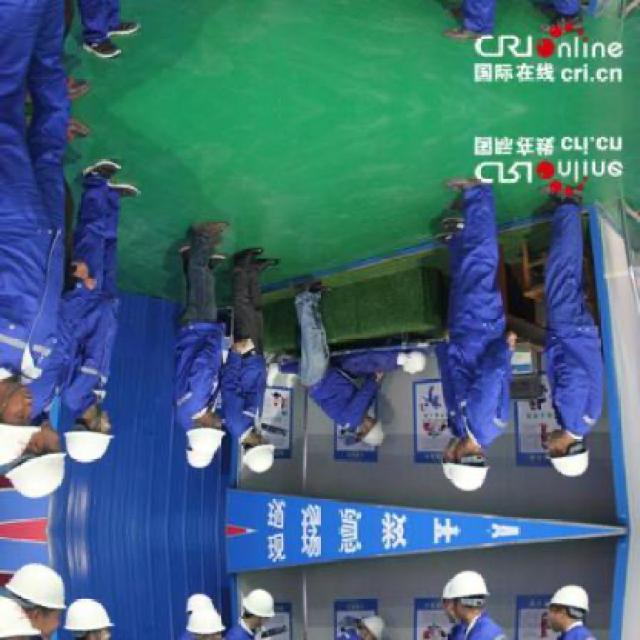con casco: (516, 417, 617, 497), (452, 421, 548, 501), (1, 412, 68, 505), (0, 356, 47, 460), (351, 396, 423, 458), (70, 392, 125, 472), (220, 437, 292, 491), (168, 424, 214, 486)
